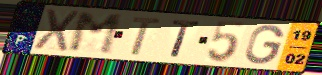5: (205, 19, 250, 65)
G: (244, 24, 286, 66)
M: (66, 12, 124, 56)
T: (130, 17, 164, 57), (169, 18, 202, 59)
X: (30, 7, 82, 53)
